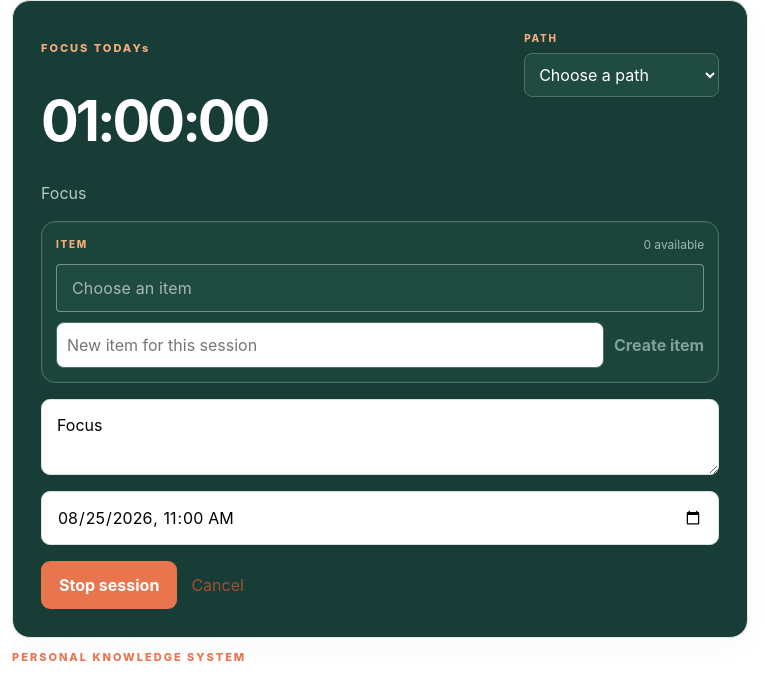
Test: DashboardView timer flow › updates the running clock when its start time is moved earlier
expect the text "01:00:00" is shown: met, box [41,78,267,162]
Replace the text in the field named "Timer start" with "2026-08-25T10:00". click: point(380, 518)
box: [41,490,719,544]
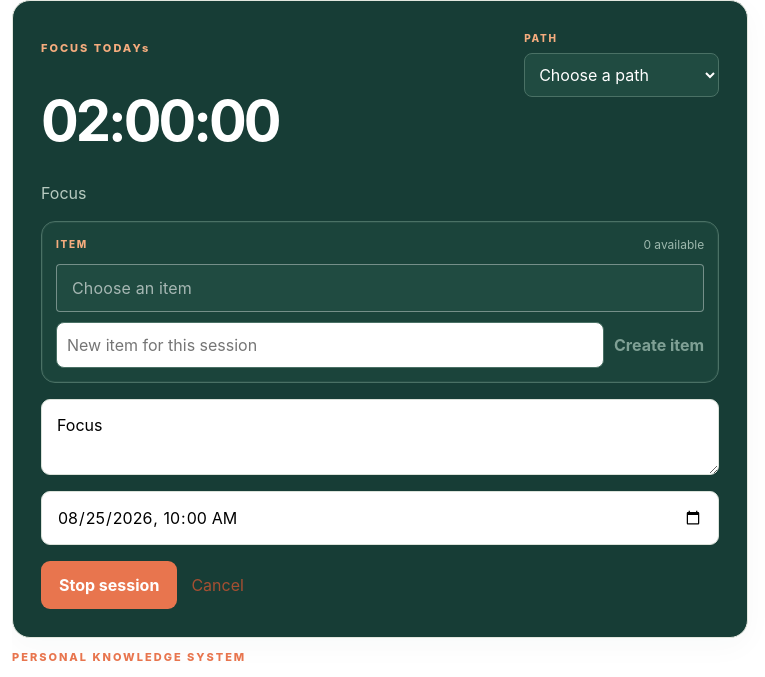
expect the text "02:00:00" is shown: met, box [41,78,278,162]
